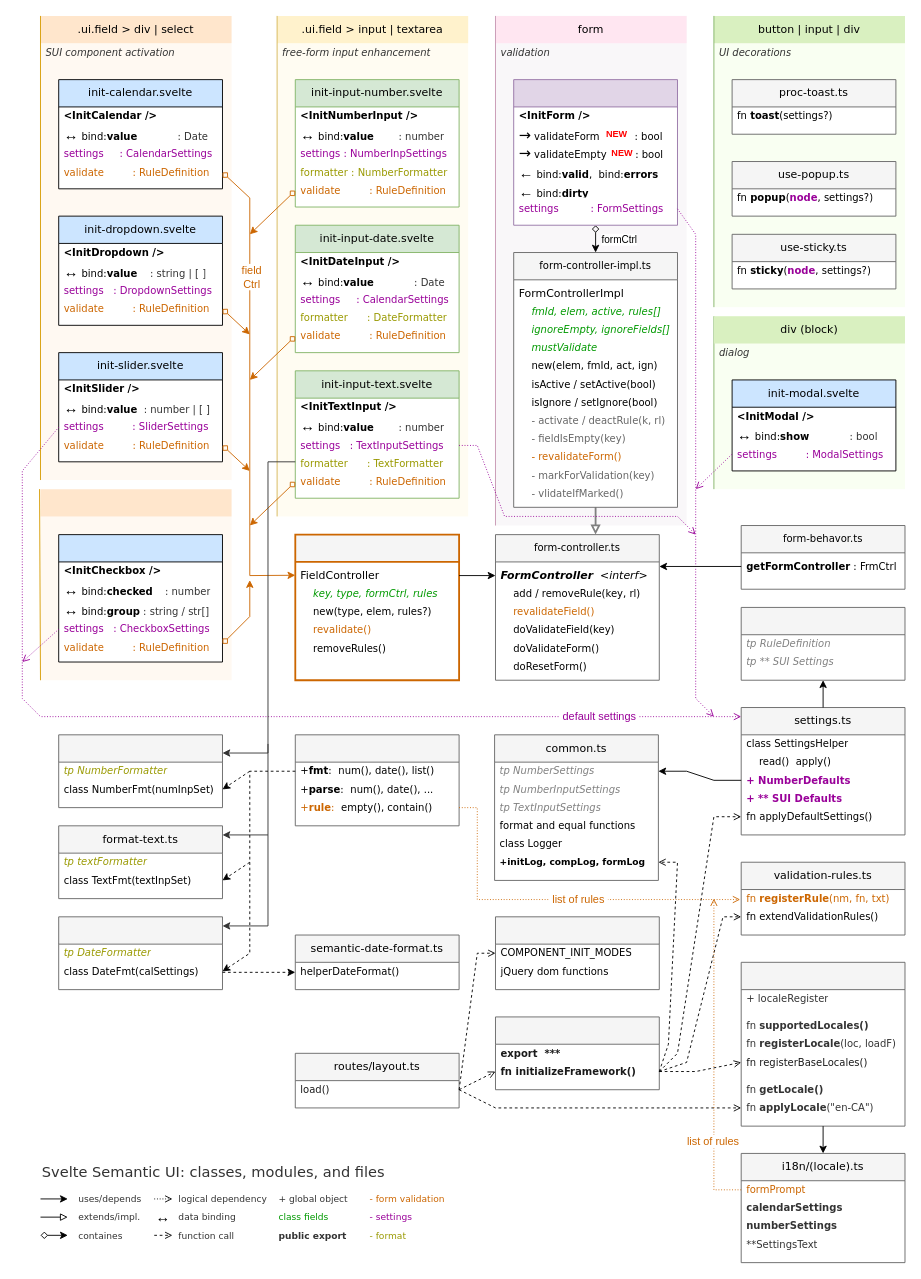
This 921x1279 diagram has some shape labels left out. Here are the shapes that lost their labels. From the top down, the centre of each, then its label:
At (x=595, y=152): "init-form.svelte".
At (x=135, y=511): ".ui.field > input (checkbox)".
At (x=140, y=598): "init-checkbox.svelte".
At (x=377, y=607): "field-controller.ts".
At (x=822, y=643): "semantic-types.ts".
At (x=140, y=771): "format-number.ts".
At (x=376, y=780): "helpers.ts".
At (x=140, y=953): "format-date.ts".
At (x=577, y=953): "dom-jquery.ts".
At (x=577, y=1053): "index.ts".
At (x=822, y=1043): "i18n/index.ts".
